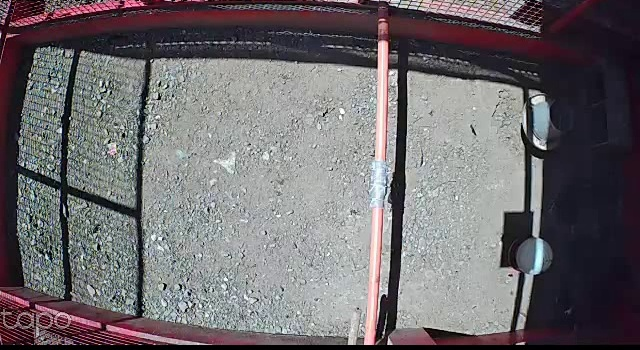Drinker: (509, 235, 555, 273)
Feeder: (518, 90, 576, 151)
